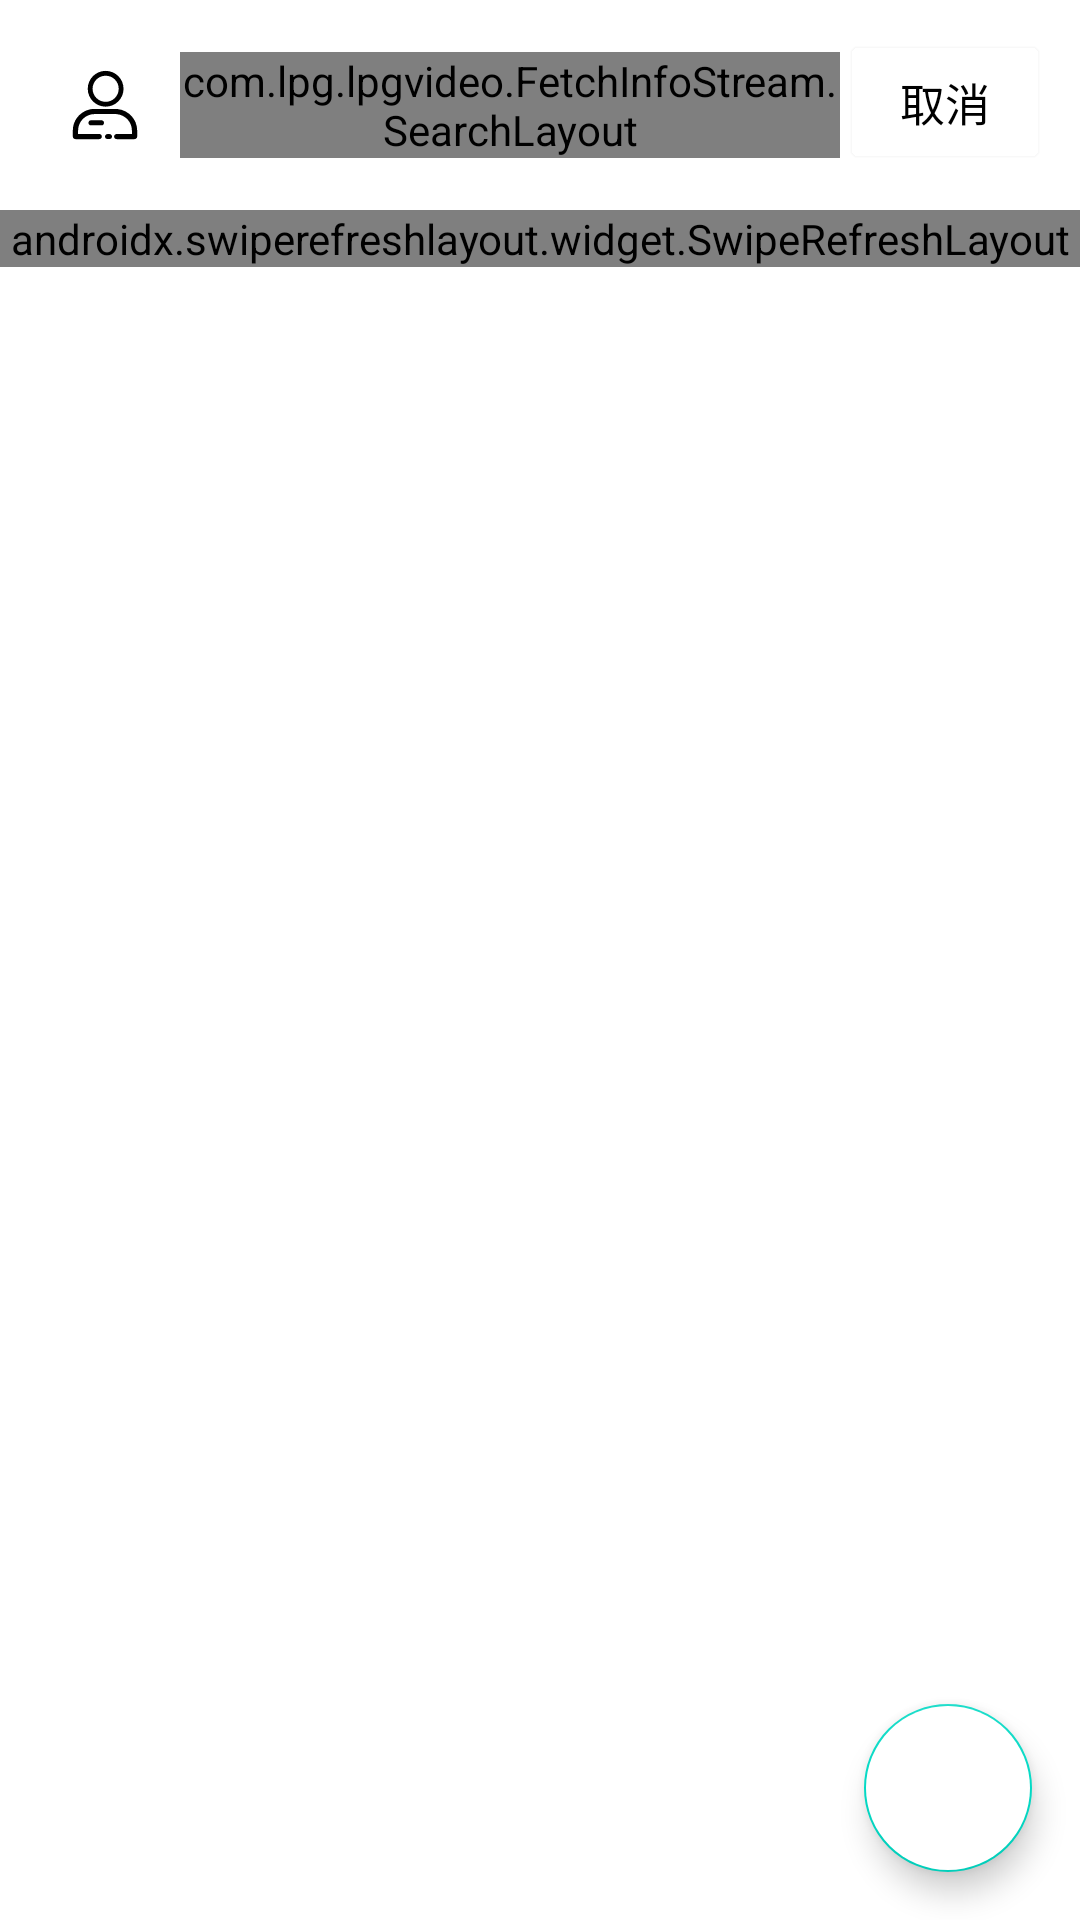

Screen size 1080 x 1920. Icon name, then its center in pixels as (x=x, y=y):
account: (x=105, y=105)
